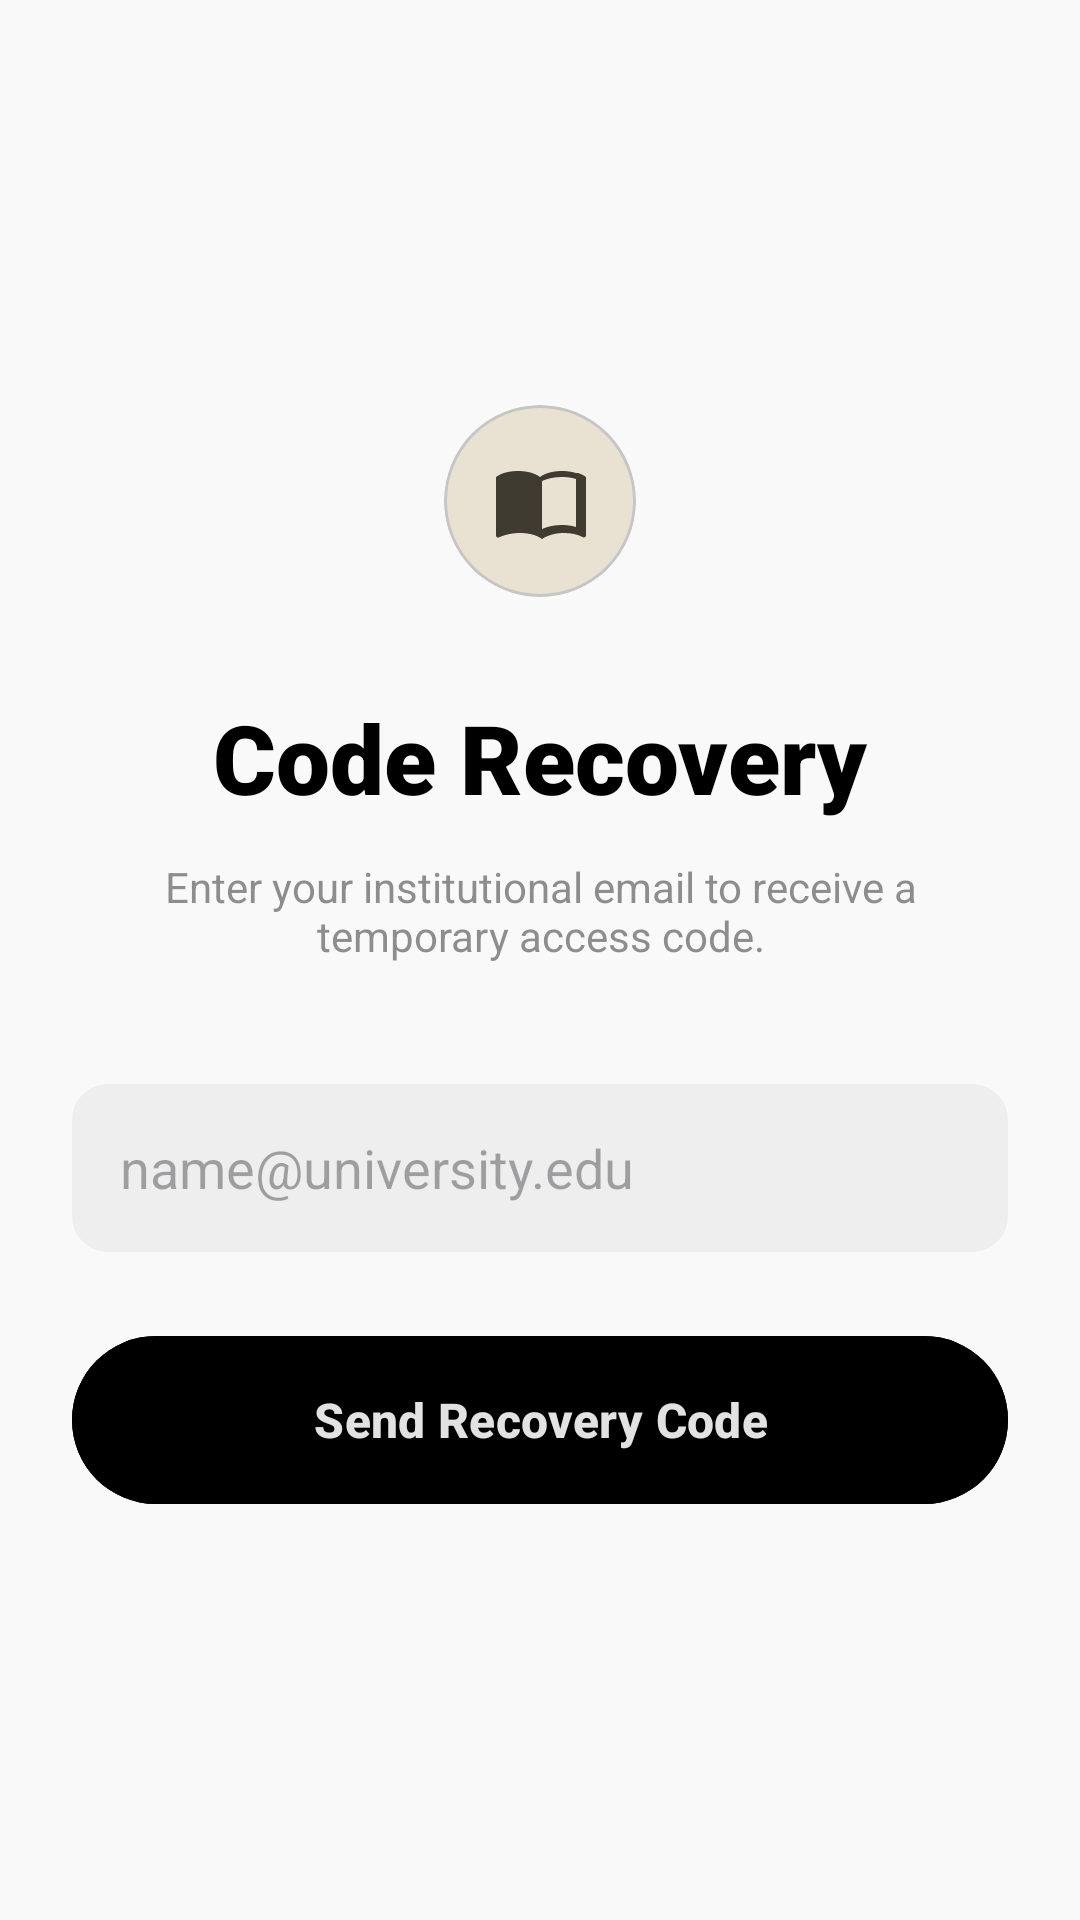

Screen size 1080*1920. Icon name, then its box in pixels as (x1, y1, x2, y2):
book: (496, 471, 586, 539)
